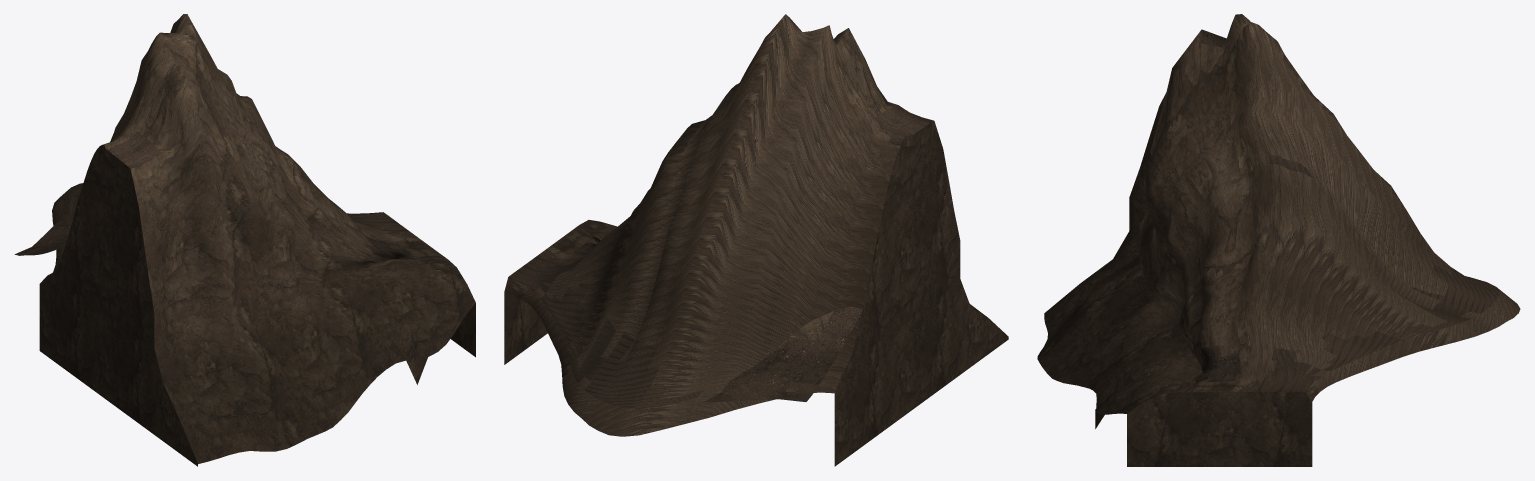
File: seacliff_endcap_right_h3_b_v5_dead.glb
3 views of the same model, side by side, from view 1: azimuth 30°, elevation 25°; view 2: azimuth 150°, elevation 25°; view 3: azimuth 270°, elevation 25° (orthographic). The views are drawn at different scales.
Visible parts, largest first — view 1: seacliff_endcap_right_h3_b; view 2: seacliff_endcap_right_h3_b; view 3: seacliff_endcap_right_h3_b.
Boxes of the visible parts, box(x1,y1,x2,y2) form: seacliff_endcap_right_h3_b: box(14, 14, 475, 466); seacliff_endcap_right_h3_b: box(504, 14, 1008, 466); seacliff_endcap_right_h3_b: box(1037, 14, 1520, 466).
Size of the model in its own units: 6 by 6.31 by 8.11.
Materials: 2 (2 with a texture image).
